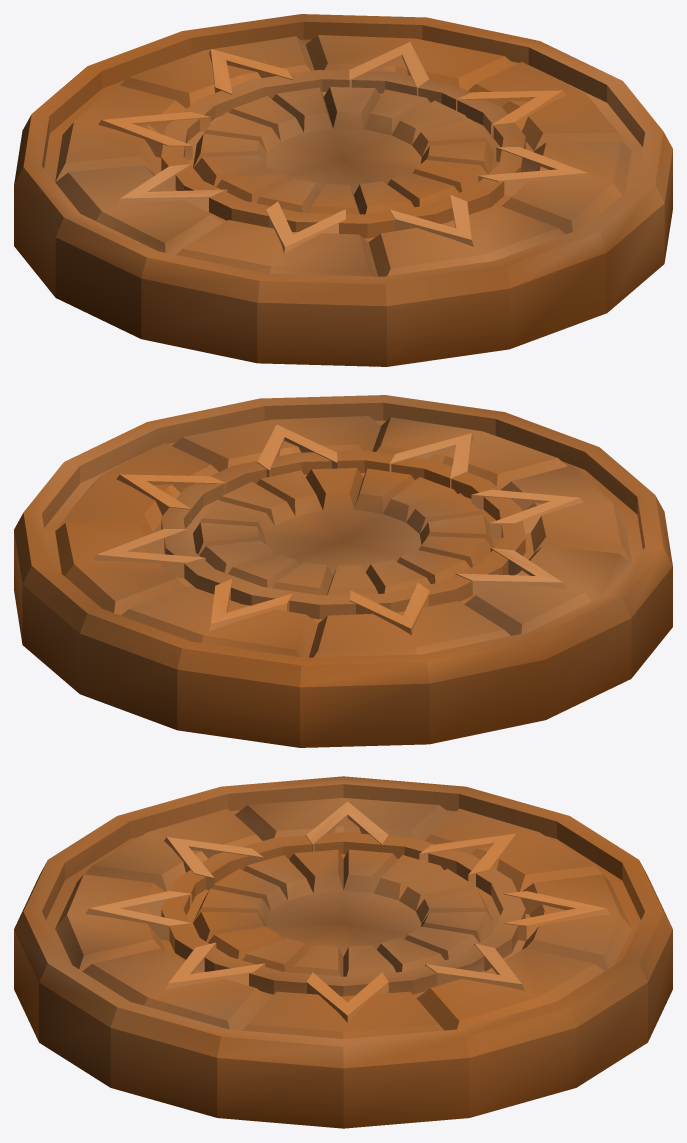
The model's file is ENV_Platform_02.fbx.
3 renders of one model, top to bottom at view 1: azimuth 30°, elevation 25°; view 2: azimuth 150°, elevation 25°; view 3: azimuth 270°, elevation 25°, orthographic.
Parts seen in each view (by area): view 1: ENV_Adventure_Platform_02; view 2: ENV_Adventure_Platform_02; view 3: ENV_Adventure_Platform_02.
Boxes of the visible parts, x1,y1,x2,y2 form: ENV_Adventure_Platform_02: (14, 14, 672, 366); ENV_Adventure_Platform_02: (14, 395, 672, 747); ENV_Adventure_Platform_02: (14, 776, 672, 1128).
Bounding box in the file's own units: 730 × 99 × 730.
